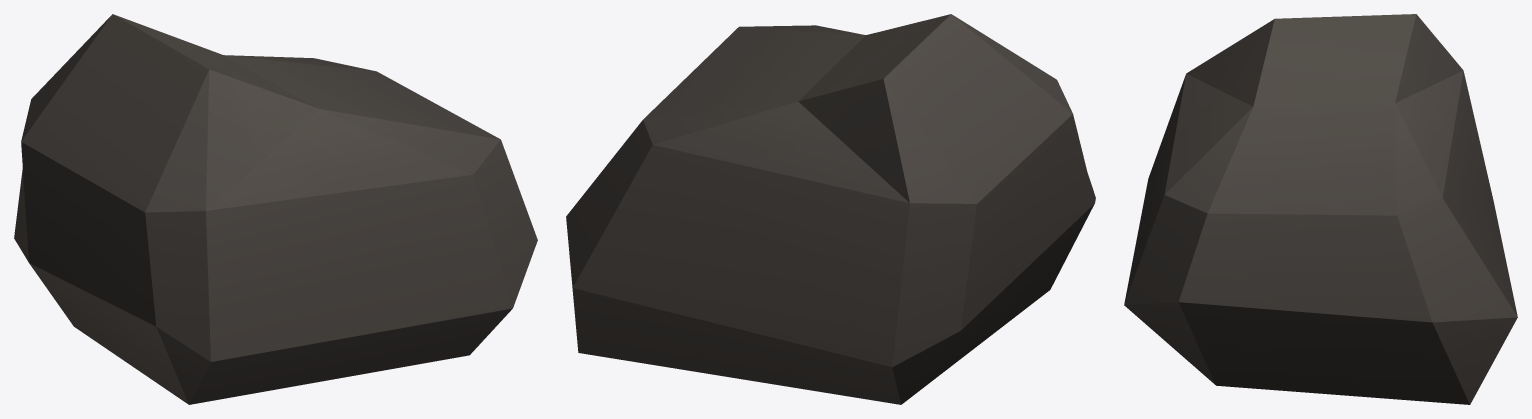
File: Stone_Squarish_C.fbx
3 renders of one model, left to right at view 1: azimuth 30°, elevation 25°; view 2: azimuth 150°, elevation 25°; view 3: azimuth 270°, elevation 25°, orthographic. The views are drawn at different scales.
Parts seen in each view (by area): view 1: Stone_Squarish_C; view 2: Stone_Squarish_C; view 3: Stone_Squarish_C.
Boxes of the visible parts, box(x1,y1,x2,y2) form: Stone_Squarish_C: box(14, 14, 537, 404); Stone_Squarish_C: box(566, 14, 1095, 404); Stone_Squarish_C: box(1124, 14, 1517, 404).
Bounding box in the file's own units: 24.85 × 24.46 × 18.95.
Materials: 1 (1 with a texture image).
